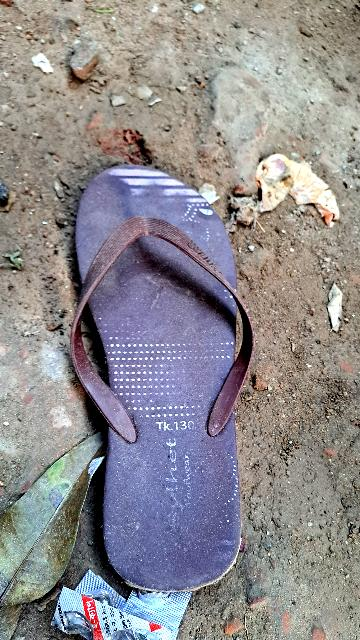sandal: (66, 159, 274, 603)
